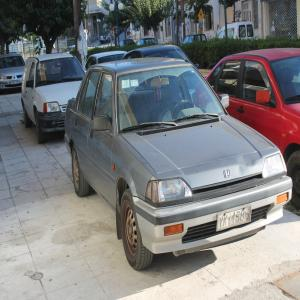Vehicle-registration-plate: (217, 205, 252, 232)
